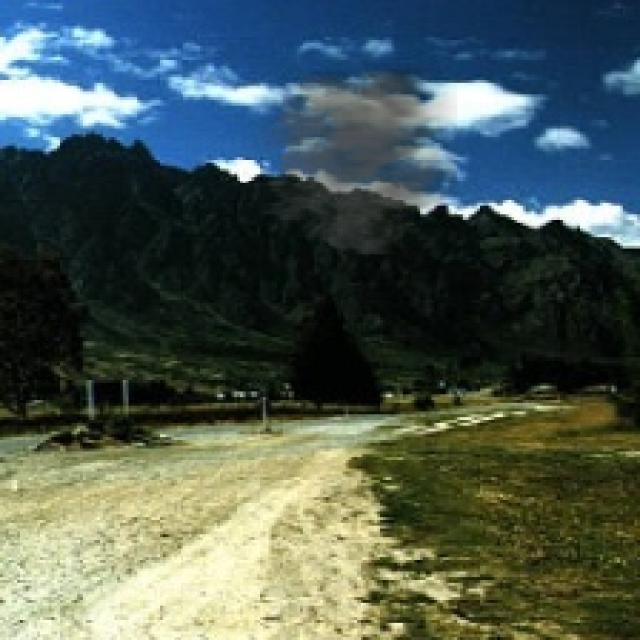smoke: (240, 54, 457, 254)
